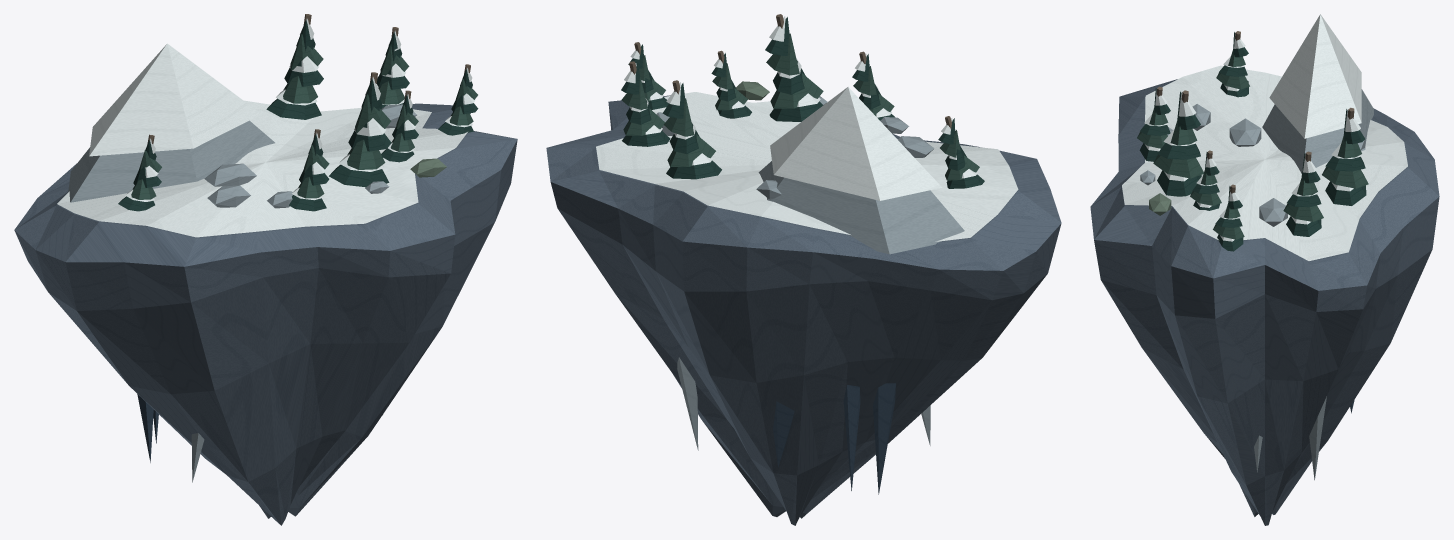
Rendered from island-alpine.glb.
The picture shows the model from 3 angles, left to right: view 1: azimuth 30°, elevation 25°; view 2: azimuth 150°, elevation 25°; view 3: azimuth 270°, elevation 25°; orthographic projection. The views are drawn at different scales.
Parts seen in each view (by area): view 1: rock, detail; view 2: rock, detail; view 3: rock, detail.
Boxes of the visible parts, left/top/right/bottom form: rock: left=14, top=103, right=517, bottom=525; detail: left=57, top=14, right=478, bottom=237; rock: left=546, top=95, right=1061, bottom=525; detail: left=596, top=14, right=1018, bottom=254; rock: left=1090, top=79, right=1439, bottom=525; detail: left=1122, top=14, right=1407, bottom=260.
Size of the model in its own units: 1 by 0.9837 by 0.669.
1 material, 1 textured.
